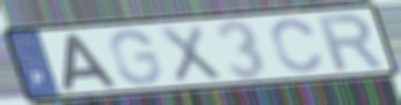3: (216, 16, 270, 83)
A: (61, 32, 120, 92)
C: (268, 16, 326, 75)
G: (107, 27, 164, 87)
R: (314, 12, 387, 73)
X: (155, 23, 225, 85)
